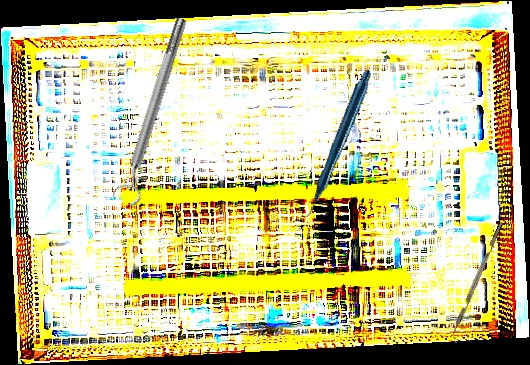Chopper: (447, 221, 509, 344)
Fixation Ring: (109, 14, 198, 208)
Handpiece: (251, 69, 418, 221)
